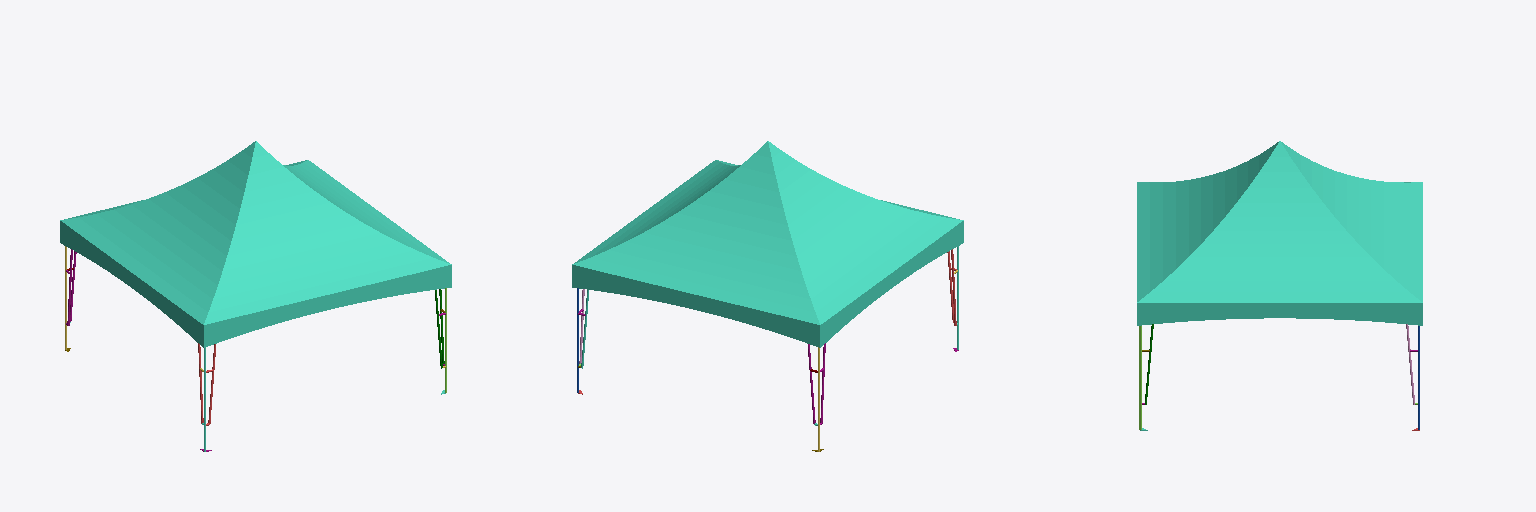
3 views of the same model, side by side, from view 1: azimuth 30°, elevation 25°; view 2: azimuth 150°, elevation 25°; view 3: azimuth 270°, elevation 25° (orthographic).
Parts seen in each view (by area): view 1: Tent_Cover_001; view 2: Tent_Cover_001; view 3: Tent_Cover_001.
Part boxes in pixels (left/top/right/bottom): Tent_Cover_001: left=60, top=141, right=451, bottom=347; Tent_Cover_001: left=572, top=141, right=963, bottom=347; Tent_Cover_001: left=1137, top=141, right=1422, bottom=325.
Bounding box in the file's own units: 201 × 178 × 201.